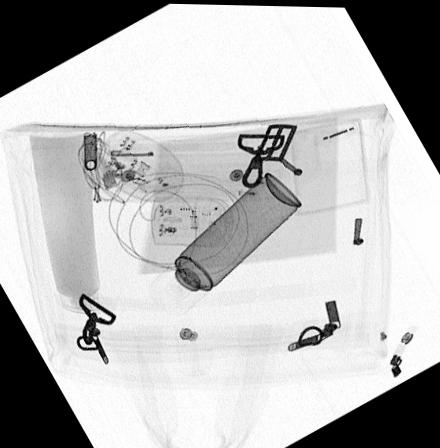Sprayer: (143, 168, 302, 318)
